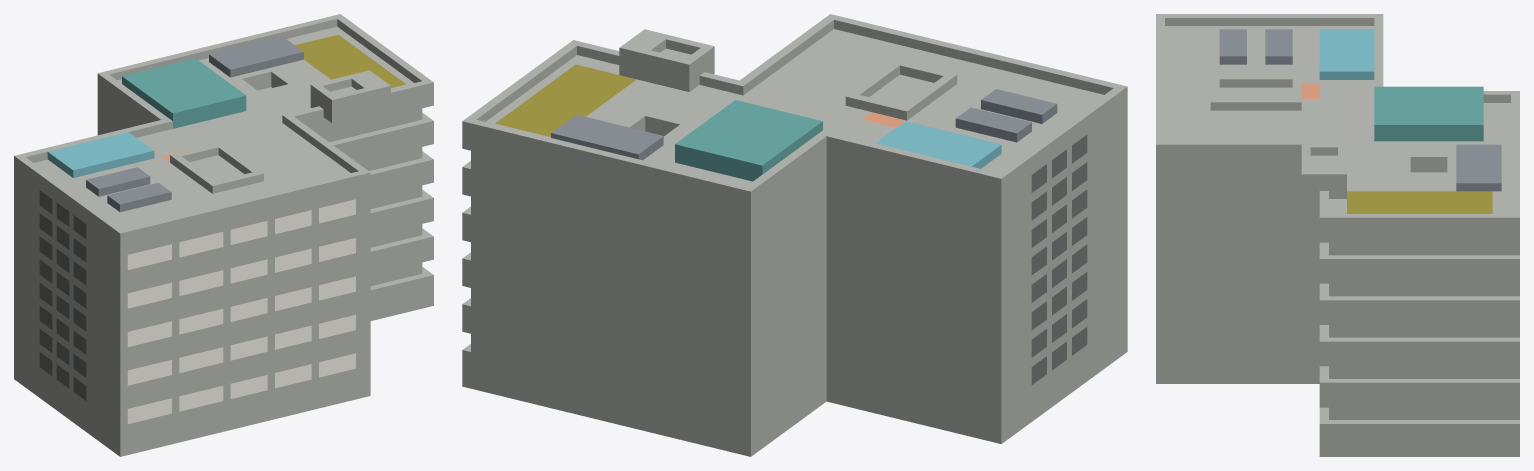
File: nishida_1.fbx
3 renders of one model, left to right at view 1: azimuth 30°, elevation 25°; view 2: azimuth 150°, elevation 25°; view 3: azimuth 270°, elevation 25°, orthographic. The views are drawn at different scales.
Parts seen in each view (by area): view 1: palette; view 2: palette; view 3: palette.
Part boxes in pixels (x1,y1,x2,y2): palette: (14,14,433,456); palette: (462,14,1127,456); palette: (1156,14,1519,456).
Bounding box in the file's own units: 53 × 31 × 40.
Materials: 1 (1 with a texture image).
